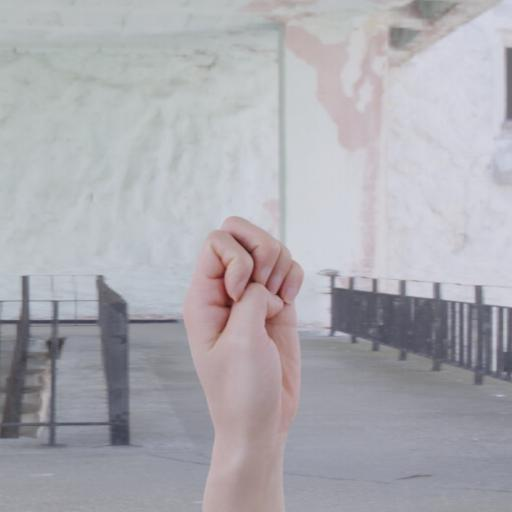E: (160, 195, 328, 444)
